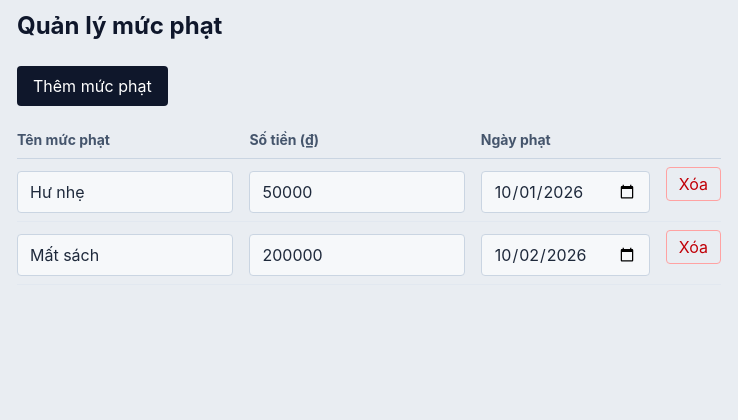
Test: FineLevels › adds a level and keeps the table sorted by amount
The width and height of the screenshot is (738, 420).
Expected: the field named "Tên mức phạt Hư nhẹ" is shown, left=17, top=171, right=234, bottom=213
Click the button "Thêm mức phạt" at (92, 86), box left=17, top=66, right=168, bottom=106
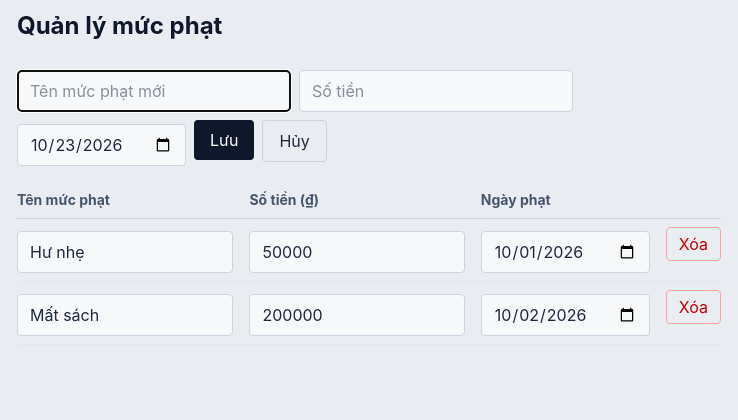
Type "Trễ hạn" into the field labelled "Tên mức phạt mới" at (154, 91), box left=17, top=70, right=291, bottom=112
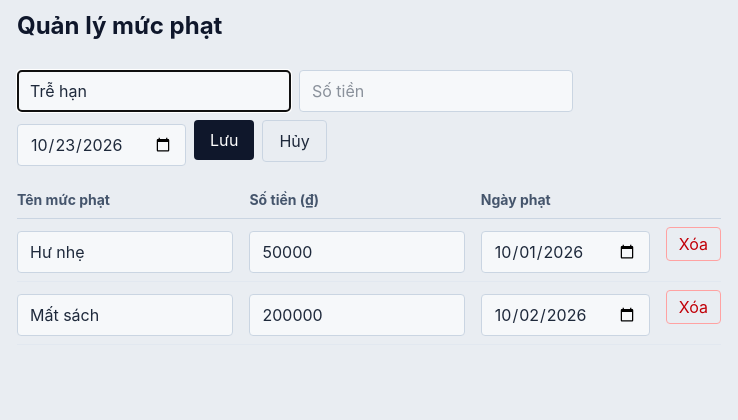
Type "10000" into the field labelled "Số tiền" at (436, 91), box left=299, top=70, right=573, bottom=112
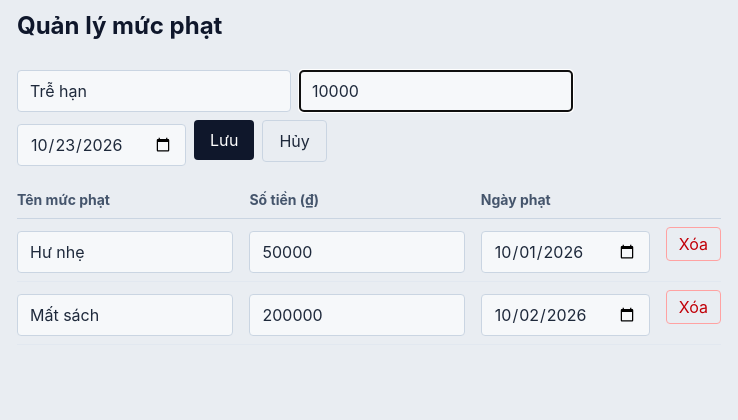
Click the button "Lưu" at (224, 140), box left=194, top=120, right=254, bottom=160
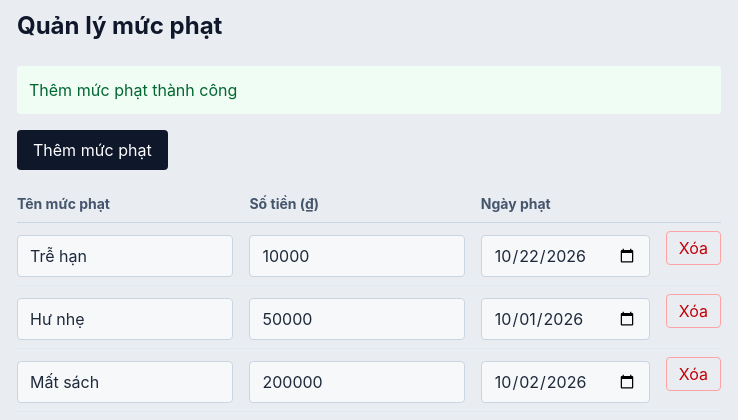
Expected: the message reads "Thêm mức phạt thành công", left=29, top=80, right=237, bottom=100
